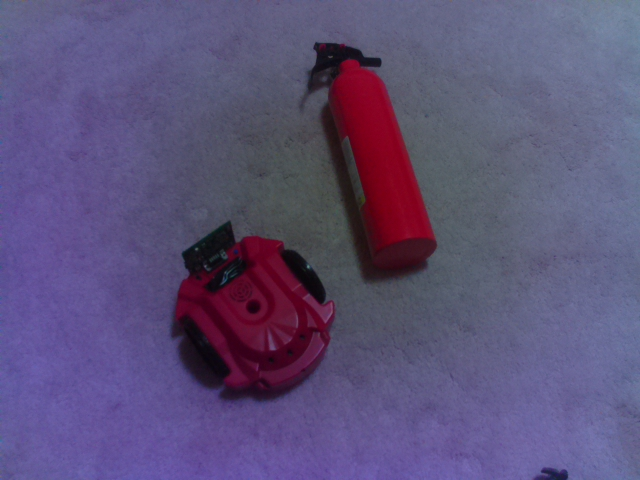chassis: (169, 220, 341, 399)
